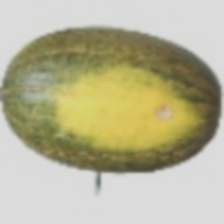honeydew: (29, 24, 175, 206)
